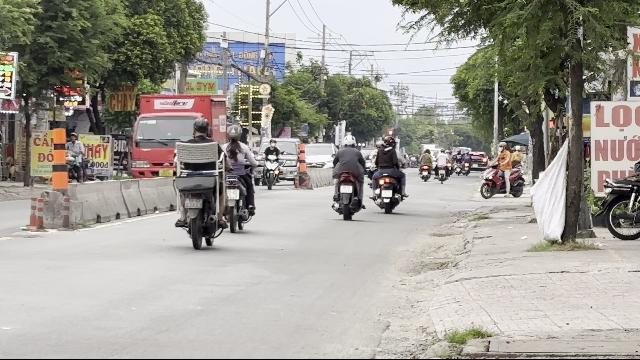helmet: (192, 118, 210, 138)
licenseplate: (185, 198, 201, 207)
motorcyclist: (171, 116, 225, 248)
